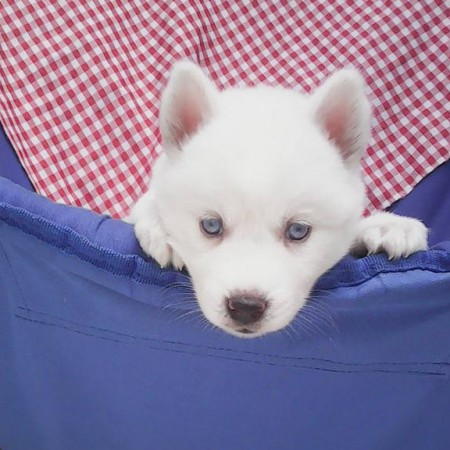husky: (126, 58, 439, 353)
